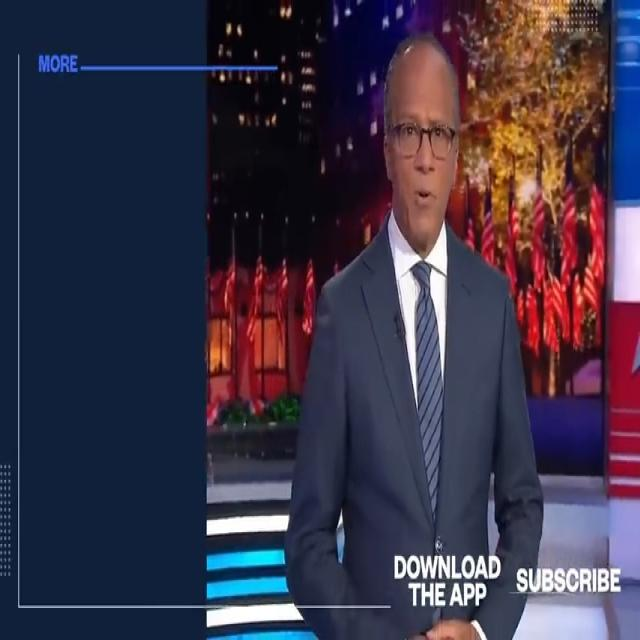non-fight: (283, 21, 545, 640)
